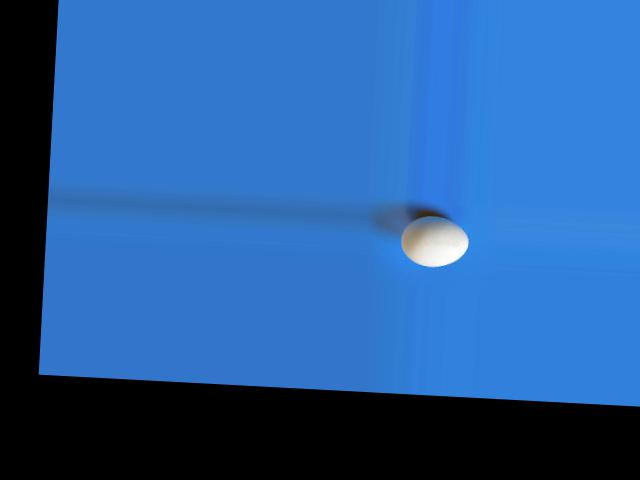egg: (398, 213, 470, 268)
